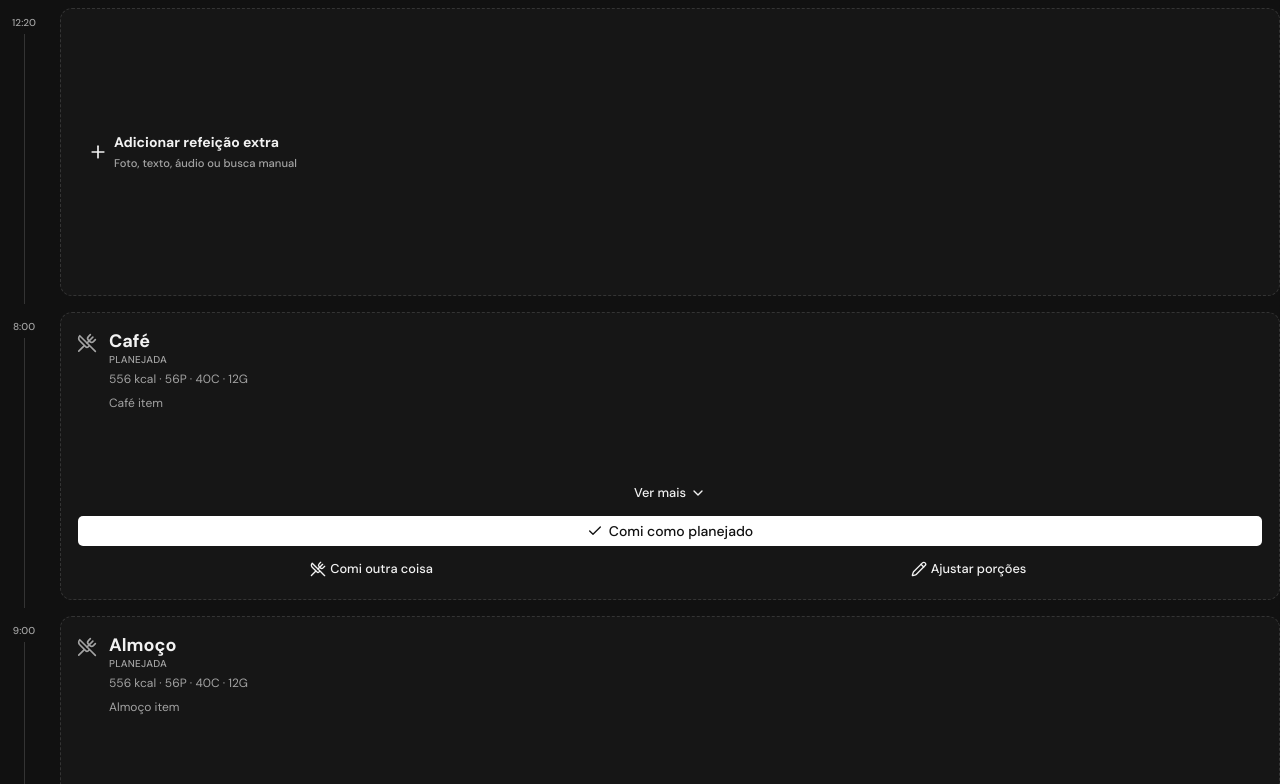
Test: LinhaDoTempoDia › mantém somente uma refeição expandida
Click the button "Ver mais" below "Café item": coordinates (670, 493) left=77, top=479, right=1263, bottom=507
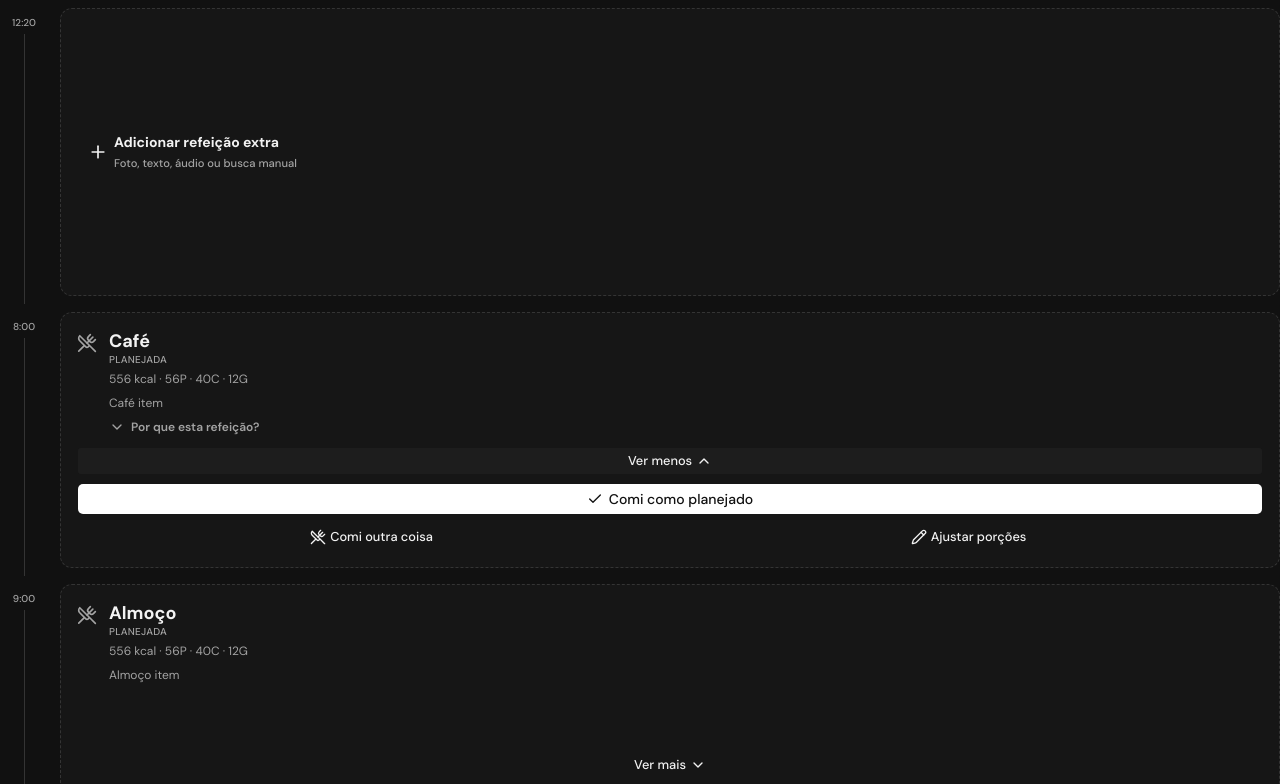
Check: the button named "Ver mais" is expanded, box left=77, top=447, right=1263, bottom=475
Click the button "Ver mais": coordinates (670, 765) left=77, top=751, right=1263, bottom=779
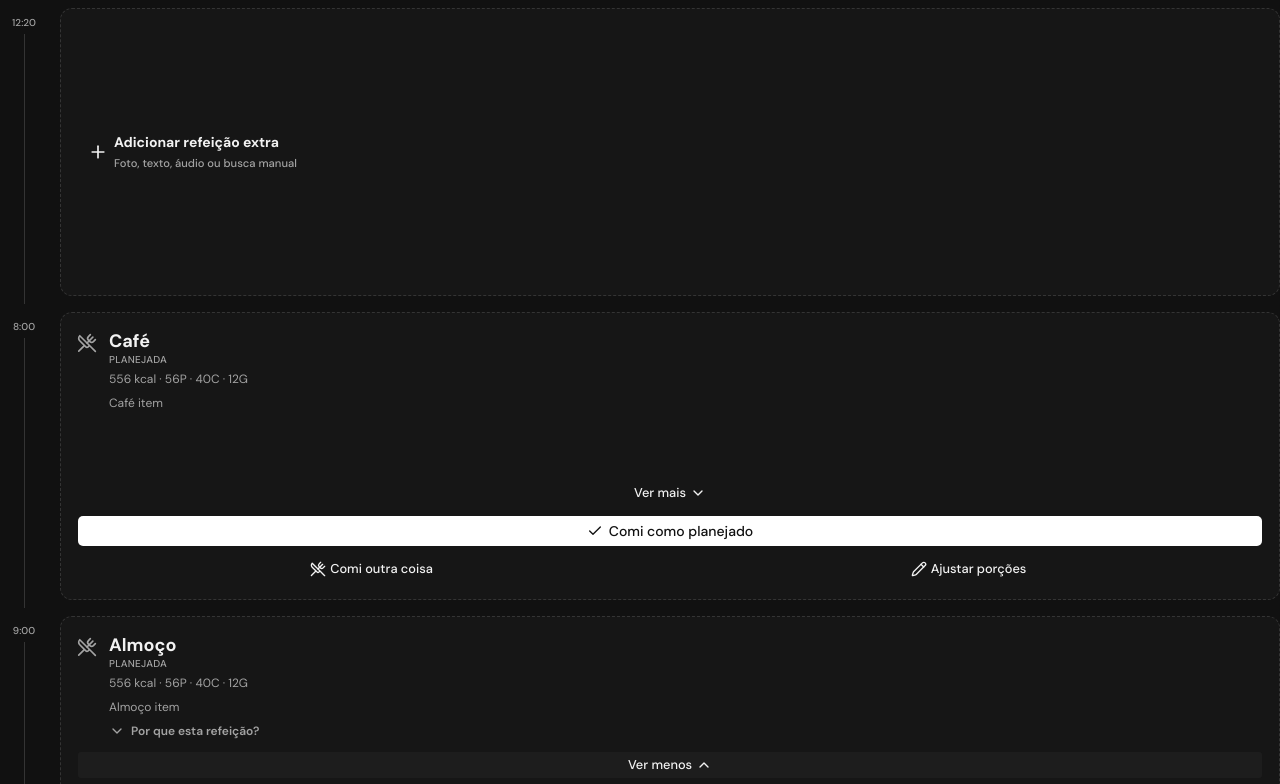
Check: the button "Ver mais" is collapsed, box left=77, top=479, right=1263, bottom=507
Check: the button named "Ver mais" is expanded, box left=77, top=751, right=1263, bottom=779
